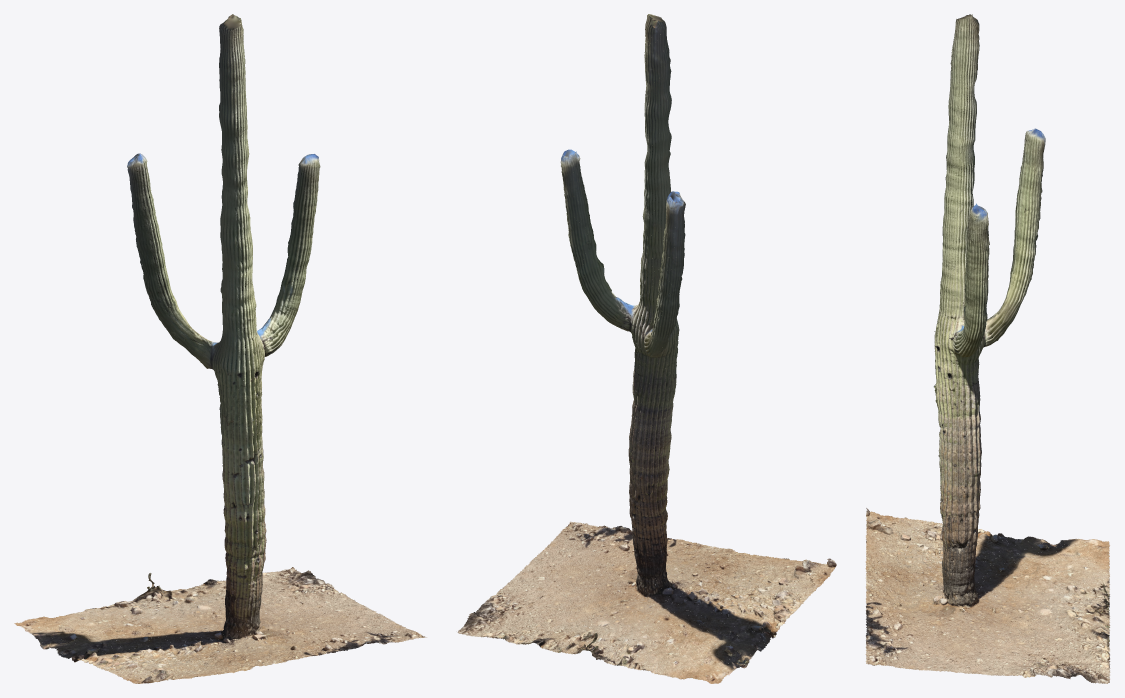
Rendered from saguaro.glb.
The picture shows the model from 3 angles, left to right: view 1: azimuth 30°, elevation 25°; view 2: azimuth 150°, elevation 25°; view 3: azimuth 270°, elevation 25°; orthographic projection. The views are drawn at different scales.
Visible parts, largest first — view 1: Object_2, Object_3, Object_4; view 2: Object_2, Object_3, Object_4; view 3: Object_2, Object_3, Object_4.
Part boxes in pixels (bbox=[...]): Object_2: bbox=[20, 14, 420, 683]; Object_3: bbox=[14, 26, 426, 683]; Object_4: bbox=[95, 24, 320, 679]; Object_2: bbox=[458, 14, 834, 680]; Object_3: bbox=[459, 20, 836, 683]; Object_4: bbox=[513, 20, 815, 633]; Object_2: bbox=[865, 14, 1110, 683]; Object_3: bbox=[865, 17, 1110, 683]; Object_4: bbox=[878, 21, 1096, 632].
Bounding box in the file's own units: 32.72 × 69.78 × 25.51.
1 material, 1 textured.
